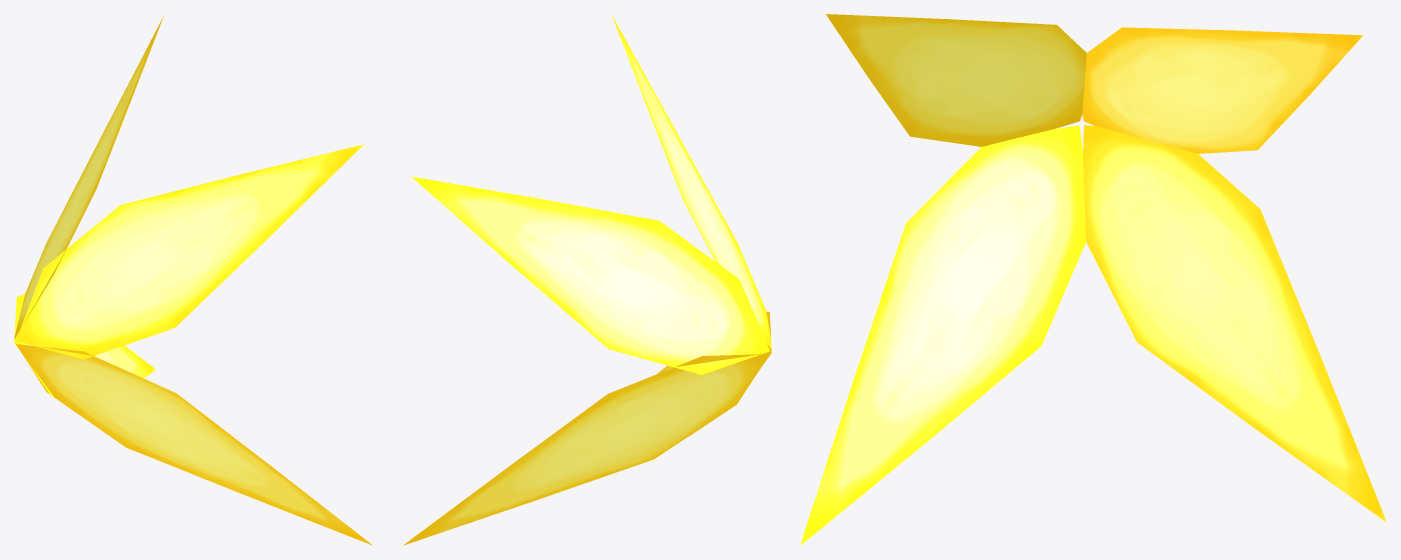
Rendered from muzzle_flash.glb.
The picture shows the model from 3 angles, left to right: view 1: azimuth 30°, elevation 25°; view 2: azimuth 150°, elevation 25°; view 3: azimuth 270°, elevation 25°; orthographic projection. The views are drawn at different scales.
Parts seen in each view (by area): view 1: Object.003; view 2: Object.003; view 3: Object.003.
Boxes of the visible parts, bbox=[...] form: Object.003: bbox=[14, 16, 372, 545]; Object.003: bbox=[403, 16, 771, 545]; Object.003: bbox=[800, 14, 1386, 545].
Bounding box in the file's own units: 0.0509 × 0.0756 × 0.0756.
Materials: 1 (1 with a texture image).
